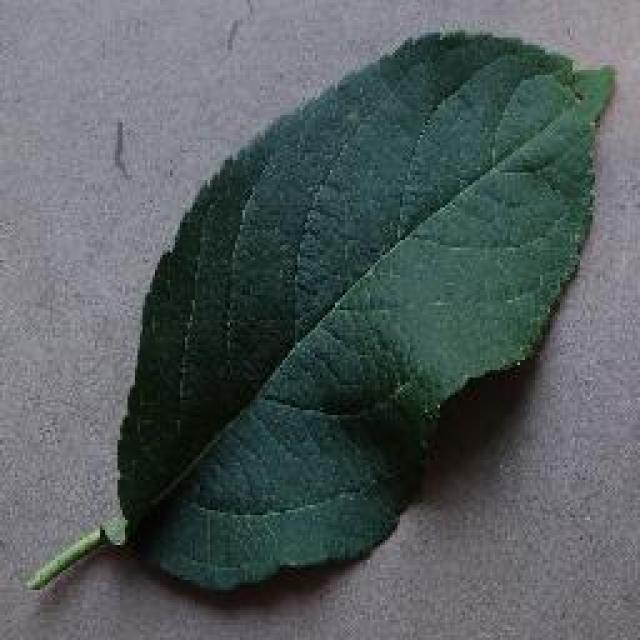apple scab disease: (22, 25, 618, 595)
